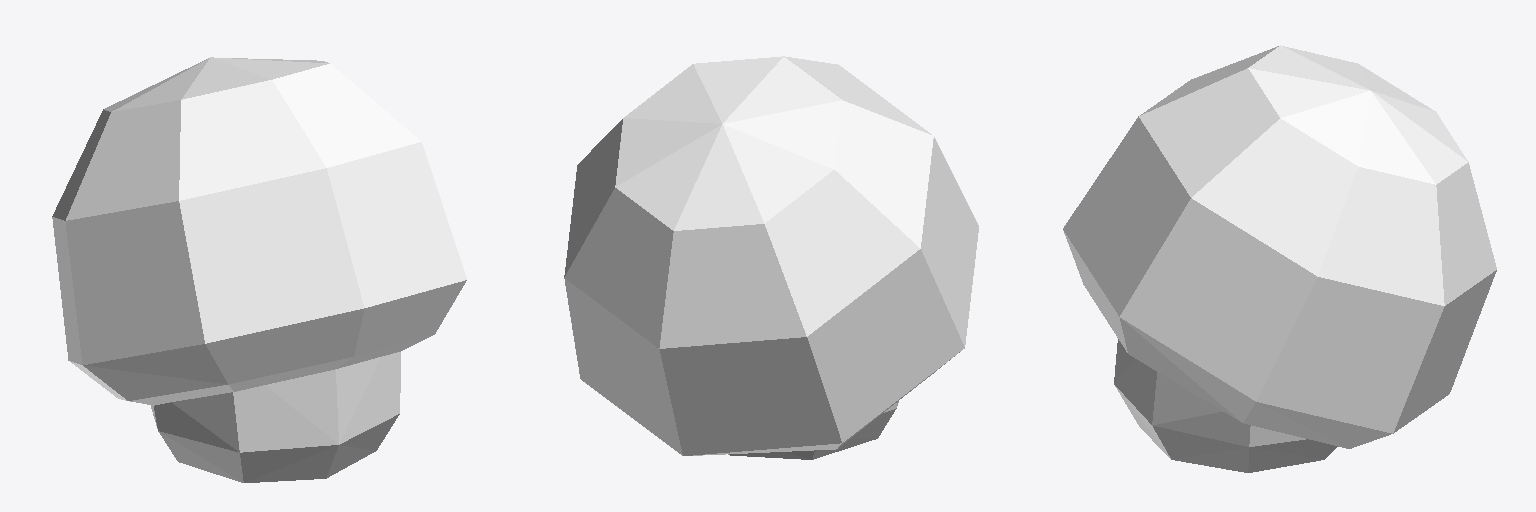
File: itemKinoko.obj
3 renders of one model, left to right at view 1: azimuth 30°, elevation 25°; view 2: azimuth 150°, elevation 25°; view 3: azimuth 270°, elevation 25°, orthographic.
Bounding box in the file's own units: 5.71 × 5.53 × 5.79.